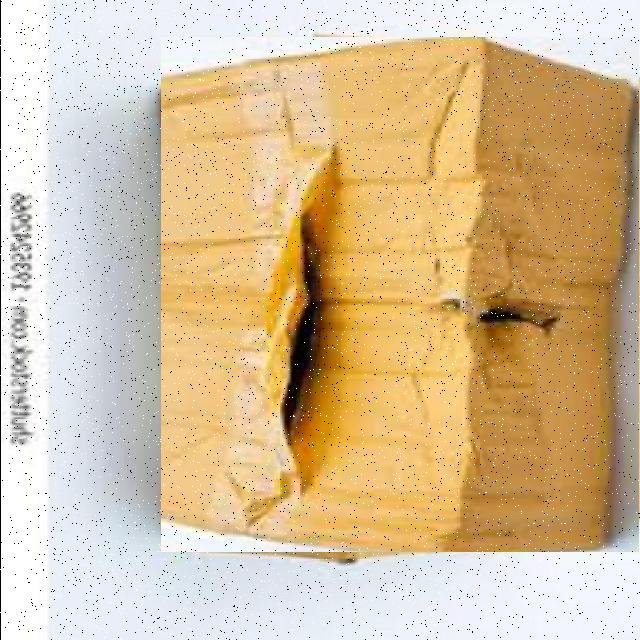defect: (160, 37, 638, 552)
